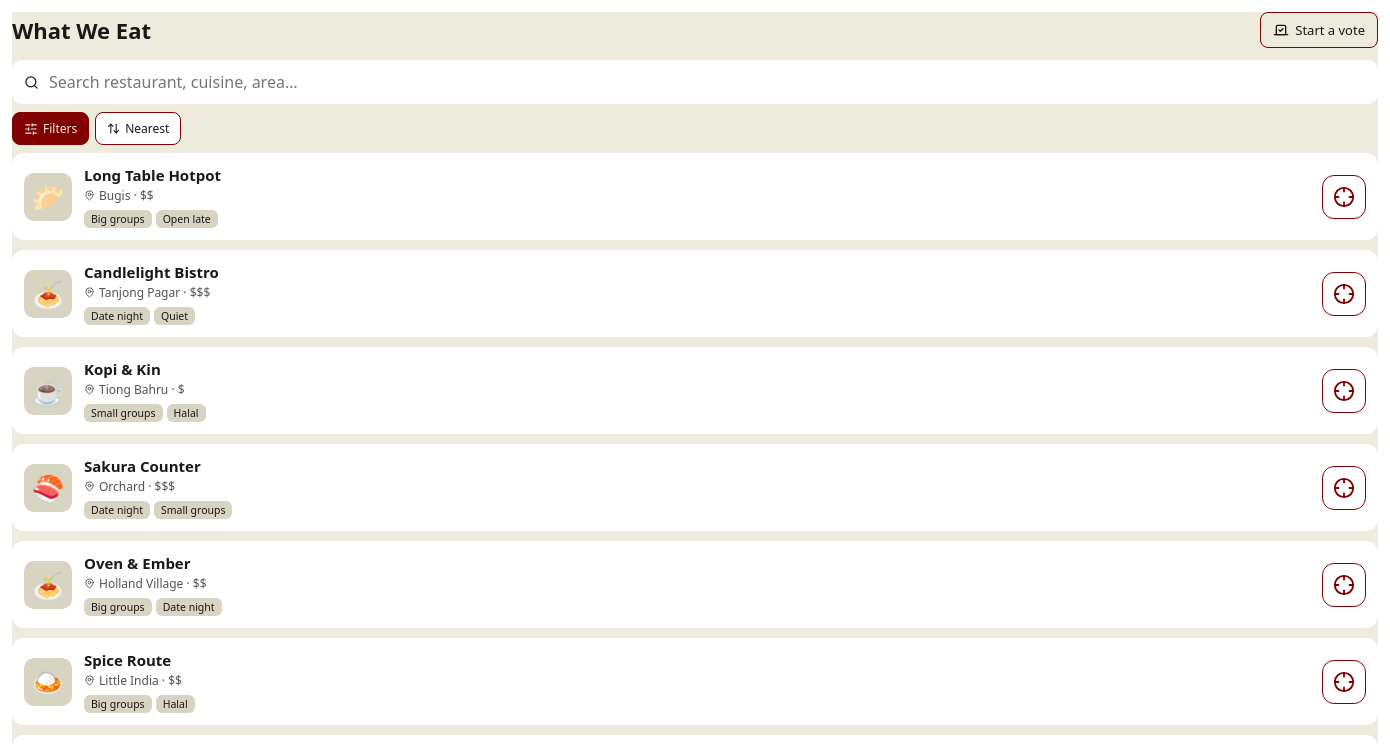
it: press and hold on a card, then Conquer, makes it a Conquered Spot
Expected: the link "Long Table Hotpot" is shown, [84, 165, 221, 185]
Press the mouse on the button named "Target Kopi & Kin" at (1344,390), box [1322, 368, 1366, 412]
Wait 700 ms
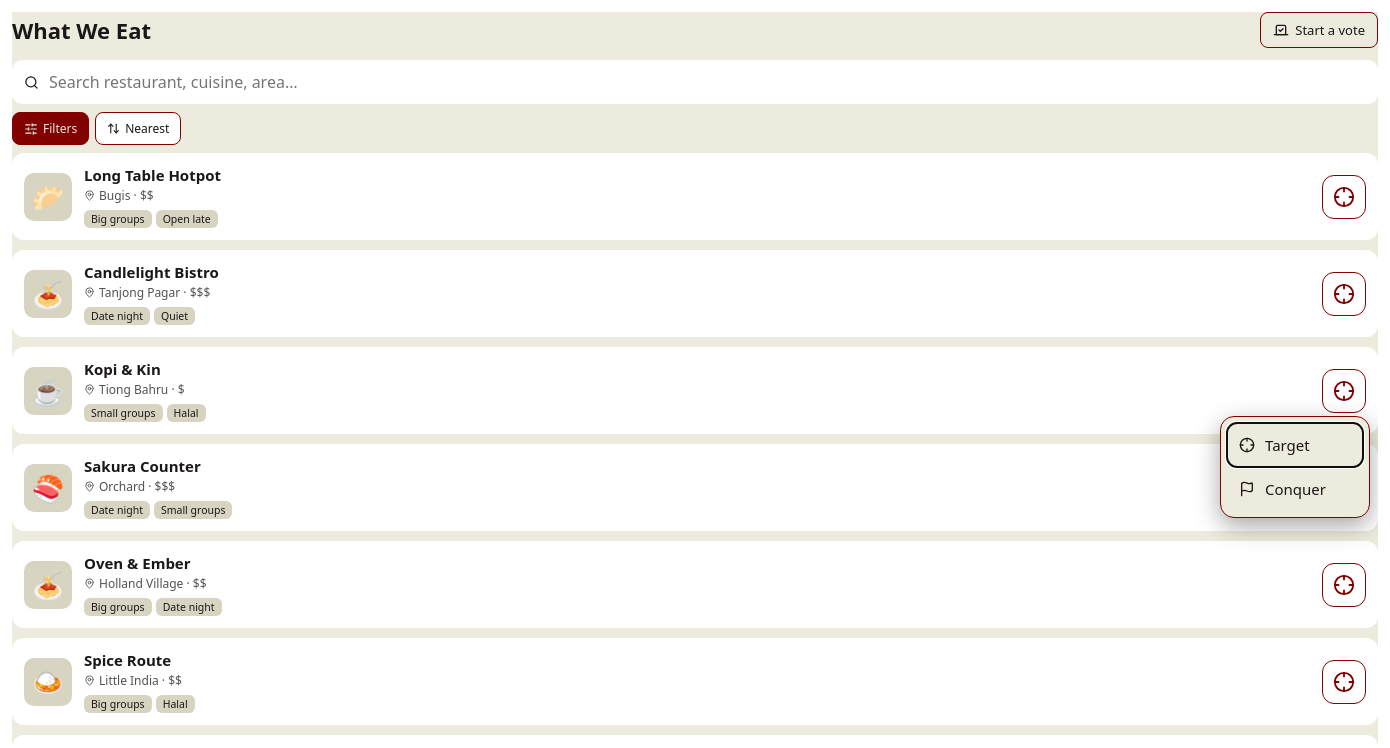
Click the menu item with aria-label "Conquer Kopi & Kin" at (1295,489), box [1227, 467, 1363, 511]
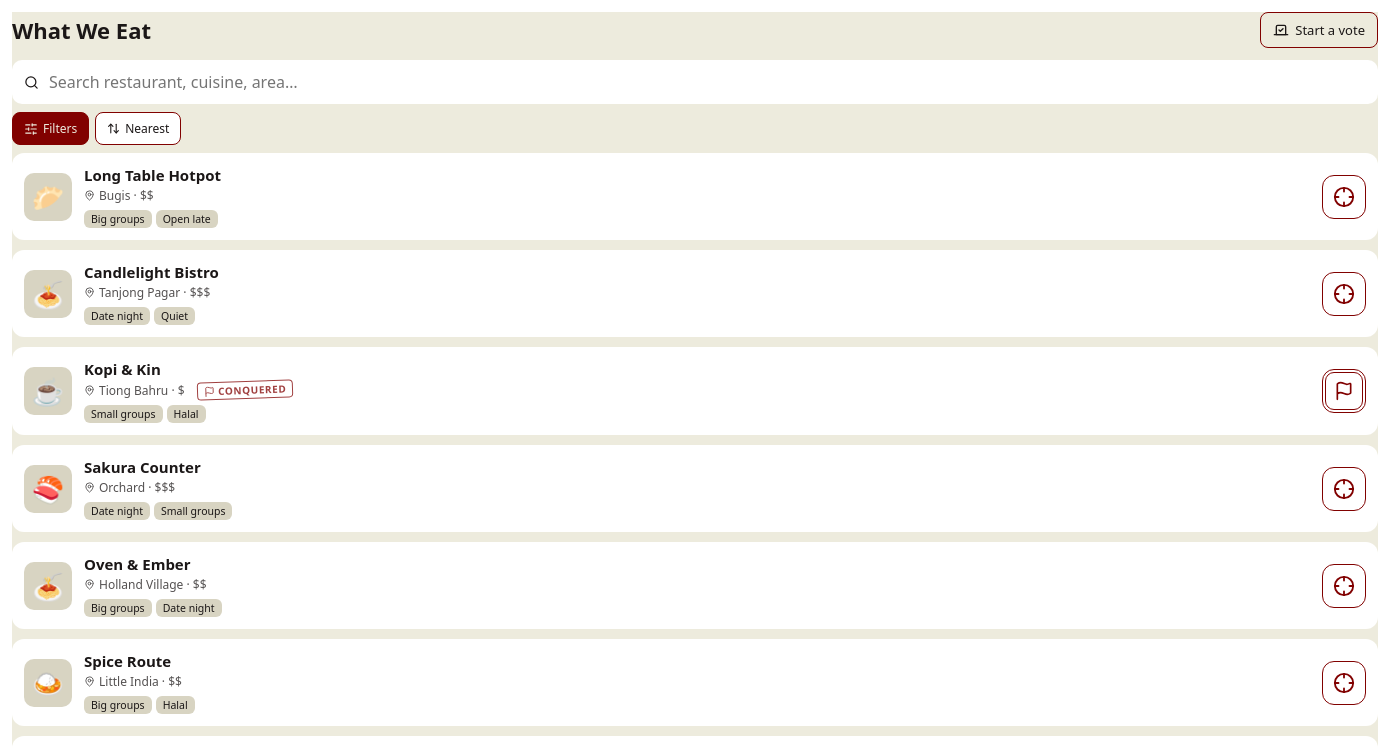
Result: the button named "Move Kopi & Kin back to Targets" is shown at [1322, 369, 1366, 413]
Result: the text "Conquered" is shown at [196, 379, 293, 401]
